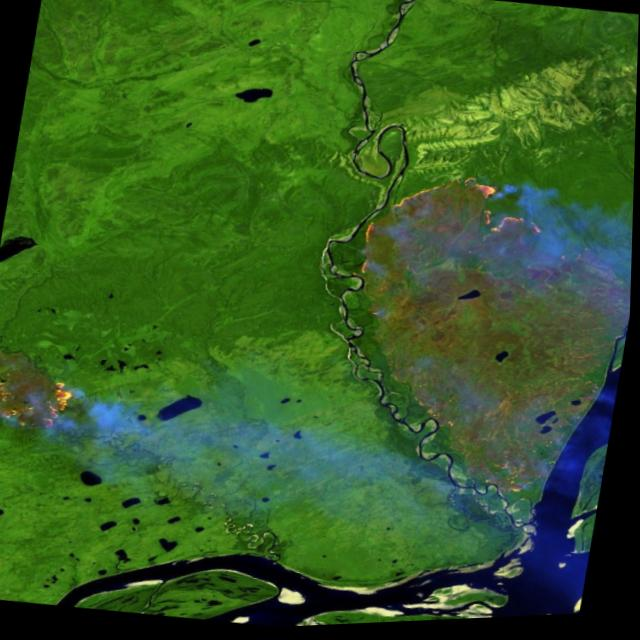fire: (349, 165, 565, 305), (0, 360, 81, 437)
